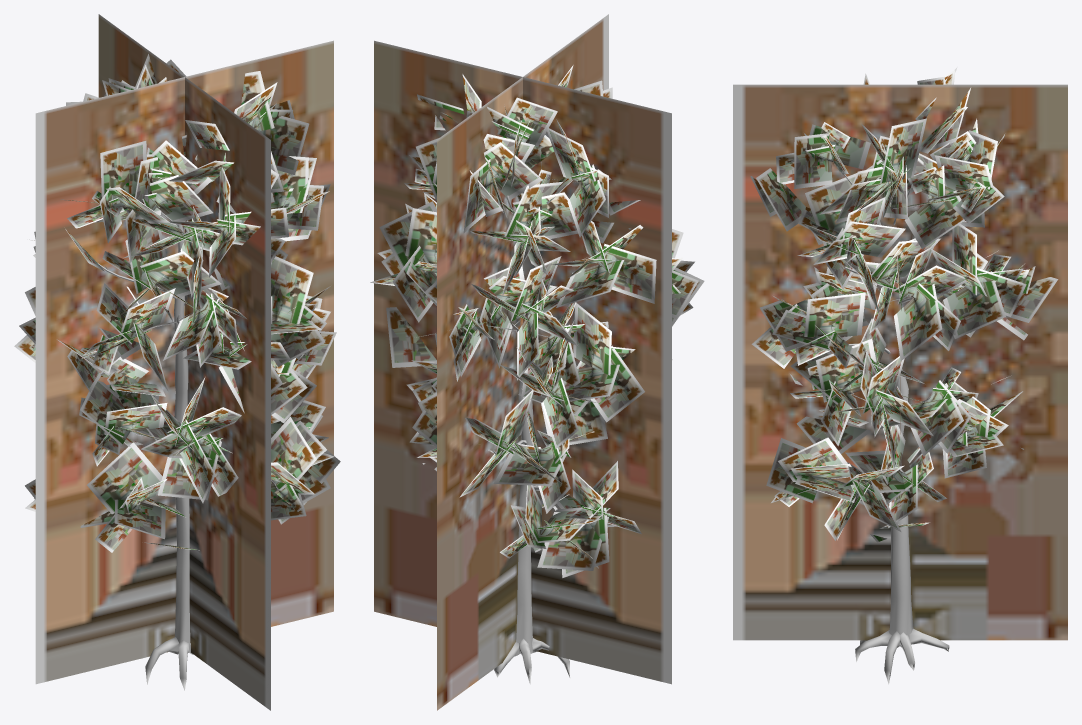
The model's file is Tree-Maple0D.fbx.
3 renders of one model, left to right at view 1: azimuth 30°, elevation 25°; view 2: azimuth 150°, elevation 25°; view 3: azimuth 270°, elevation 25°, orthographic. The views are drawn at different scales.
Parts seen in each view (by area): view 1: Billboard-MapleD, Tree-Maple0D_LOD0; view 2: Billboard-MapleD, Tree-Maple0D_LOD0; view 3: Billboard-MapleD, Tree-Maple0D_LOD0.
Boxes of the visible parts, x1,y1,x2,y2 form: Billboard-MapleD: (35, 14, 333, 710); Tree-Maple0D_LOD0: (14, 54, 340, 690); Billboard-MapleD: (374, 14, 671, 710); Tree-Maple0D_LOD0: (370, 65, 704, 684); Billboard-MapleD: (733, 84, 1067, 640); Tree-Maple0D_LOD0: (750, 67, 1058, 684).
Size of what is drawn, in the model's own units: 1513 by 2900 by 1513.
